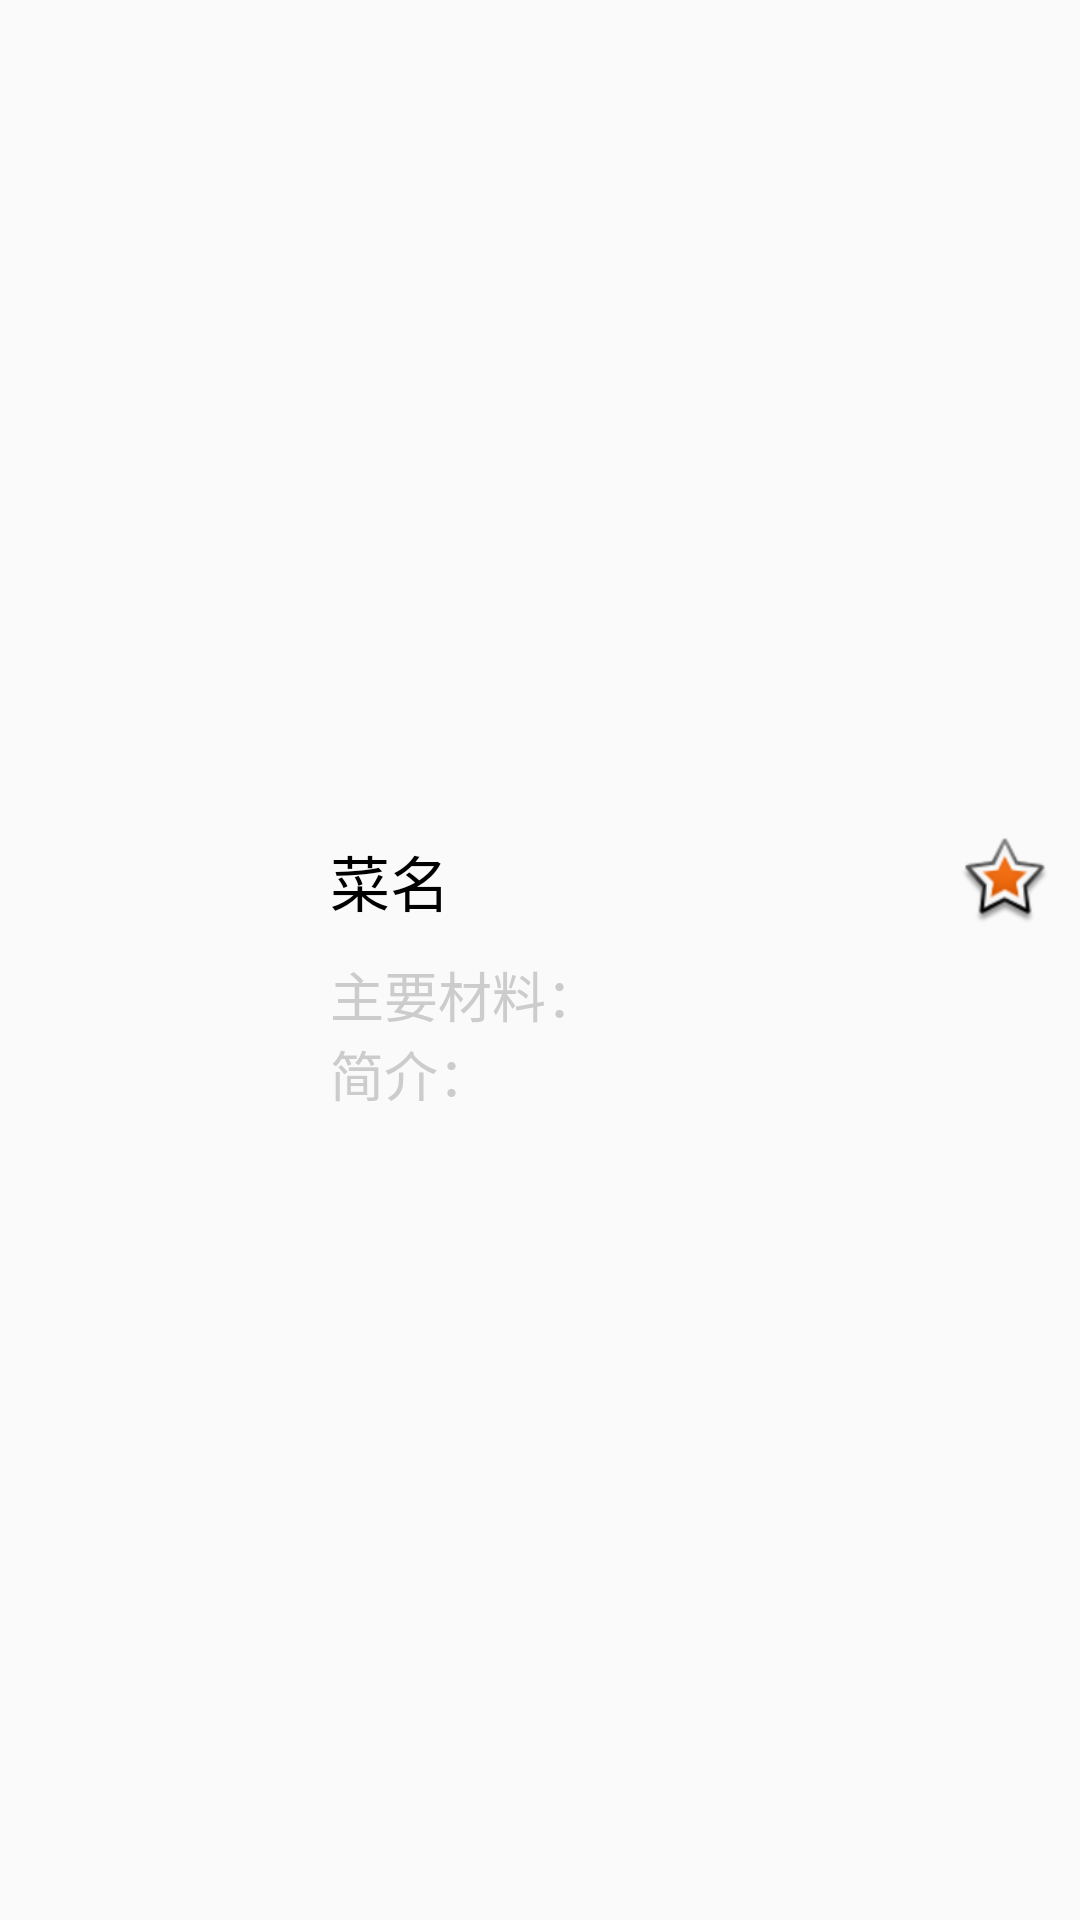

Icon bounding boxes for this 1080px x 1920px phone screenshot, format (x1, y1, x2, y2):
star on: (965, 838, 1045, 920)
